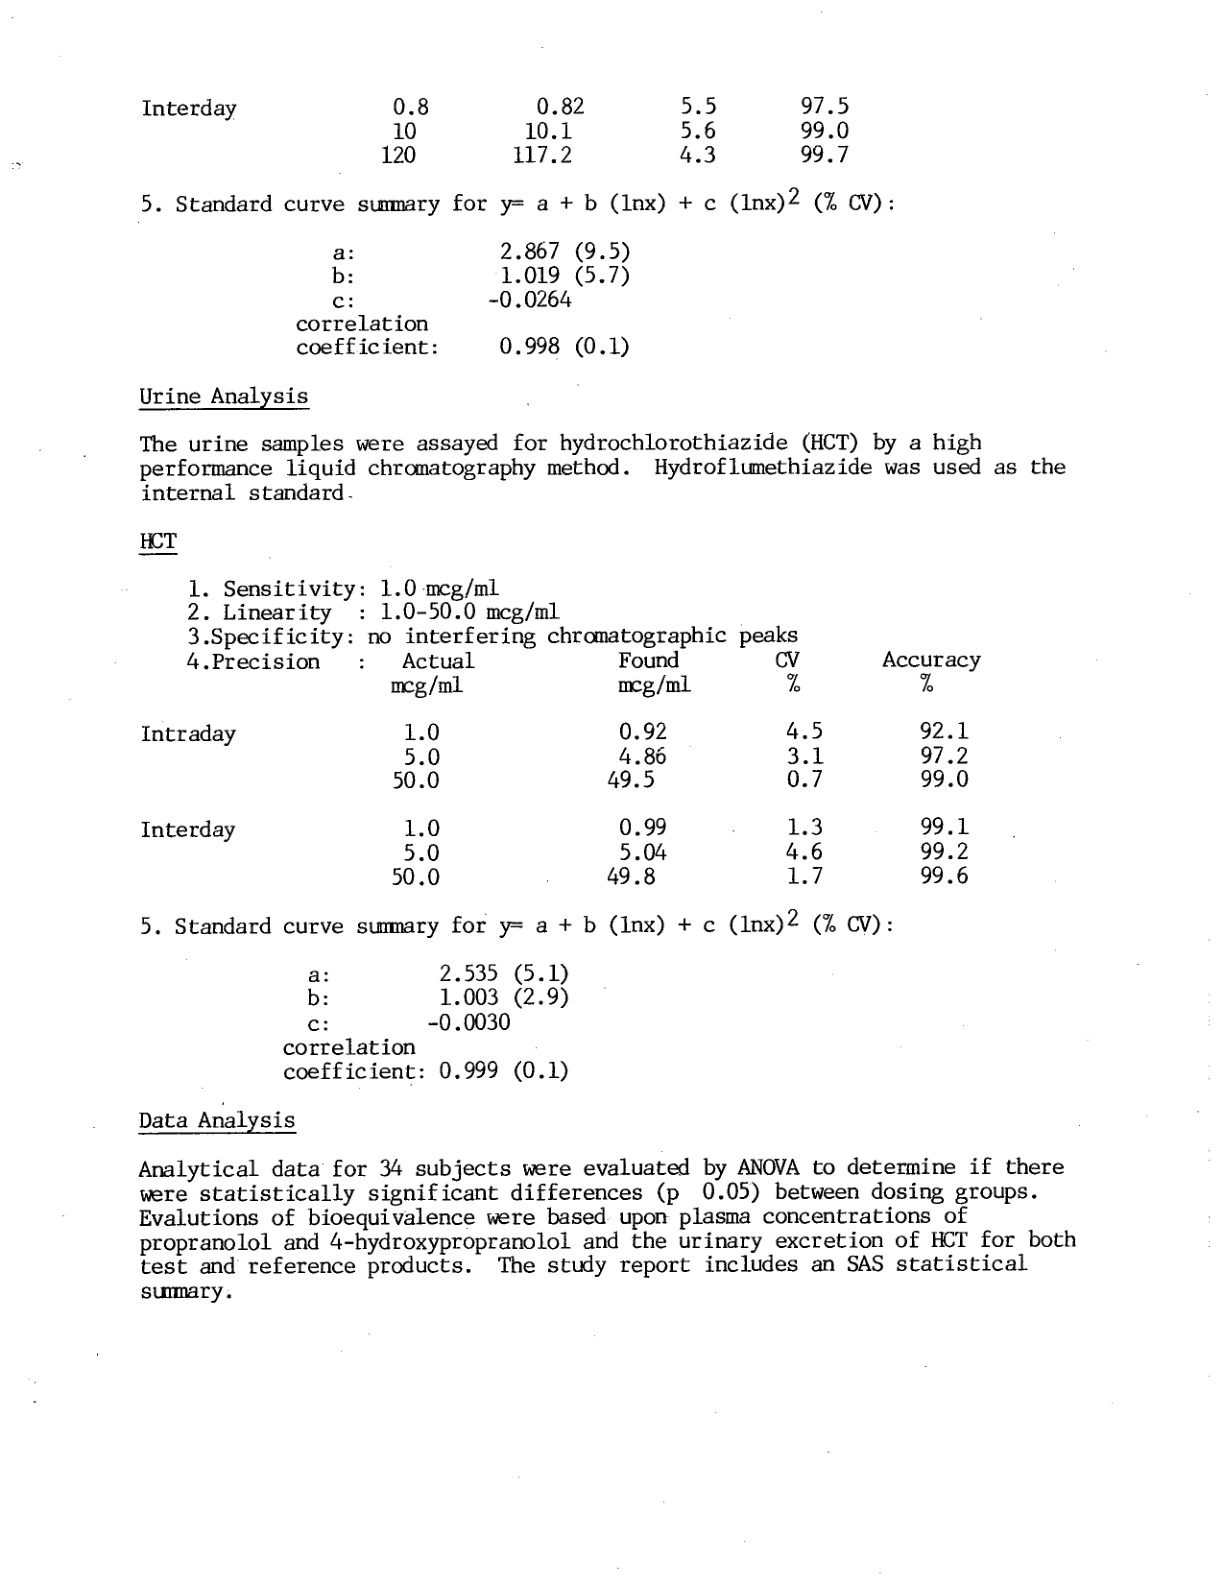nolines: (139, 649, 984, 888), (139, 95, 851, 168), (297, 237, 631, 363), (280, 955, 572, 1083)
